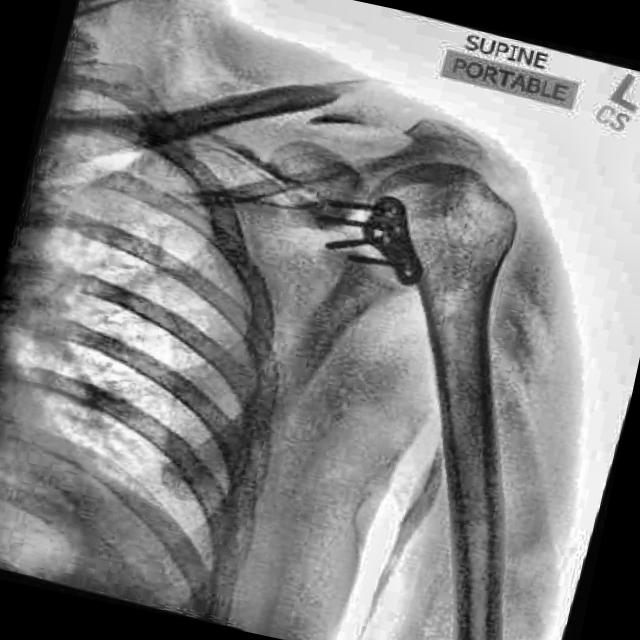shoulder fracture: (273, 68, 401, 143)
